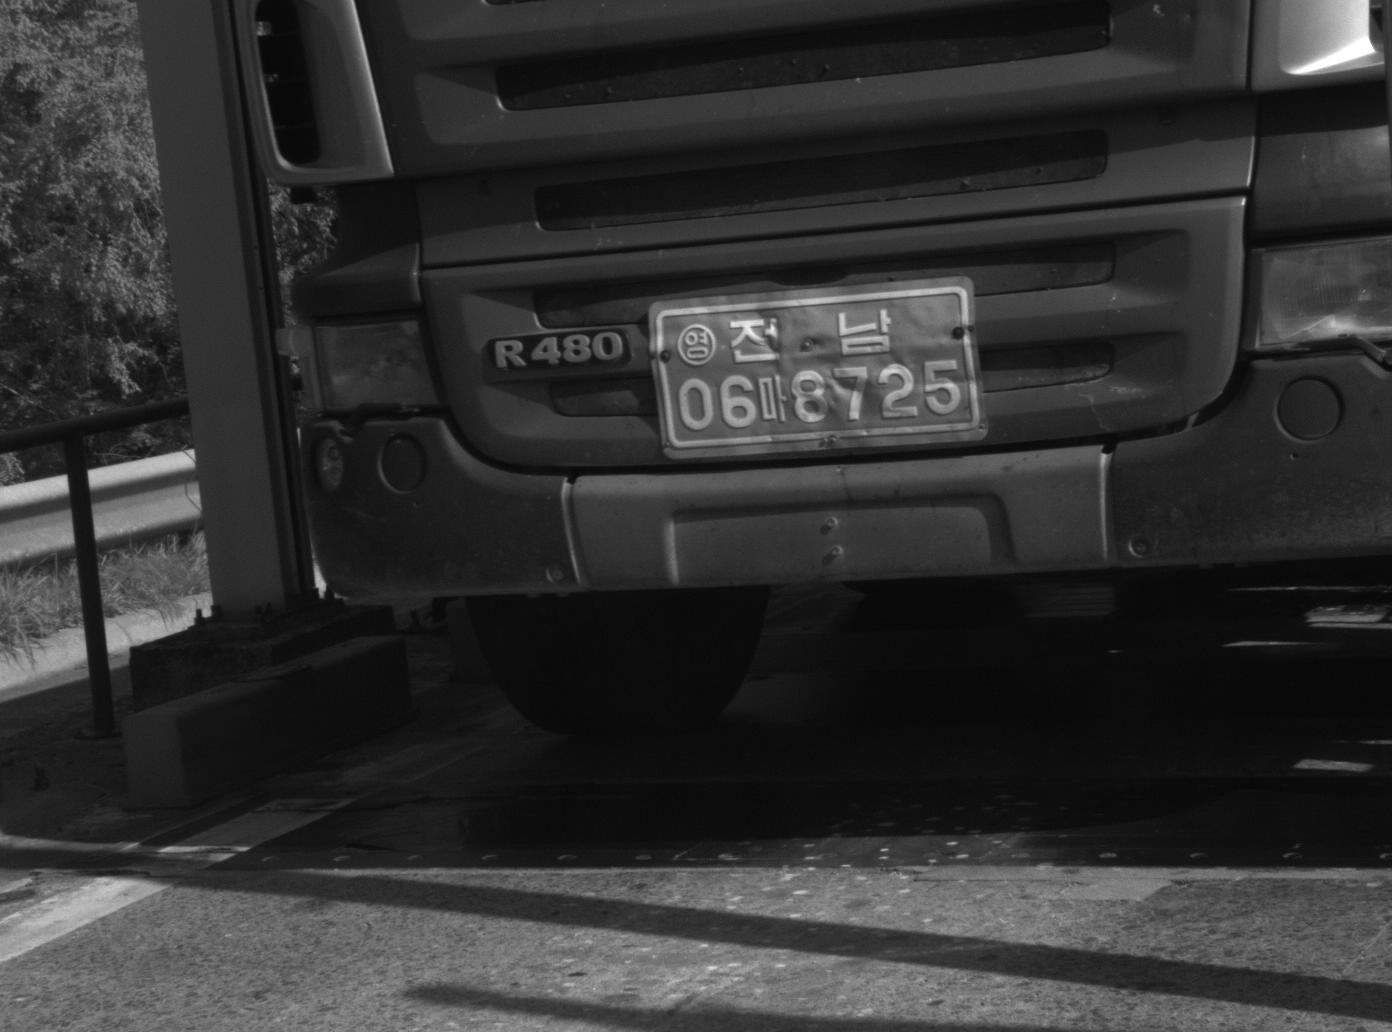car: (233, 1, 1392, 742)
plate: (639, 275, 989, 462)
